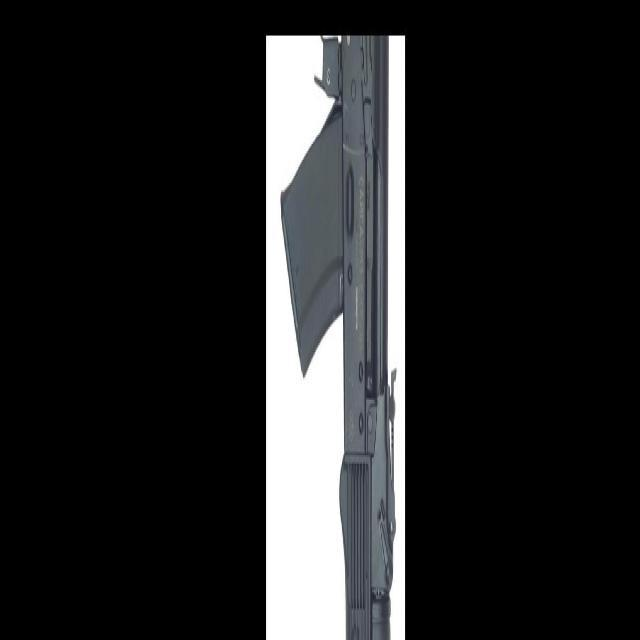weapon: (278, 35, 398, 640)
